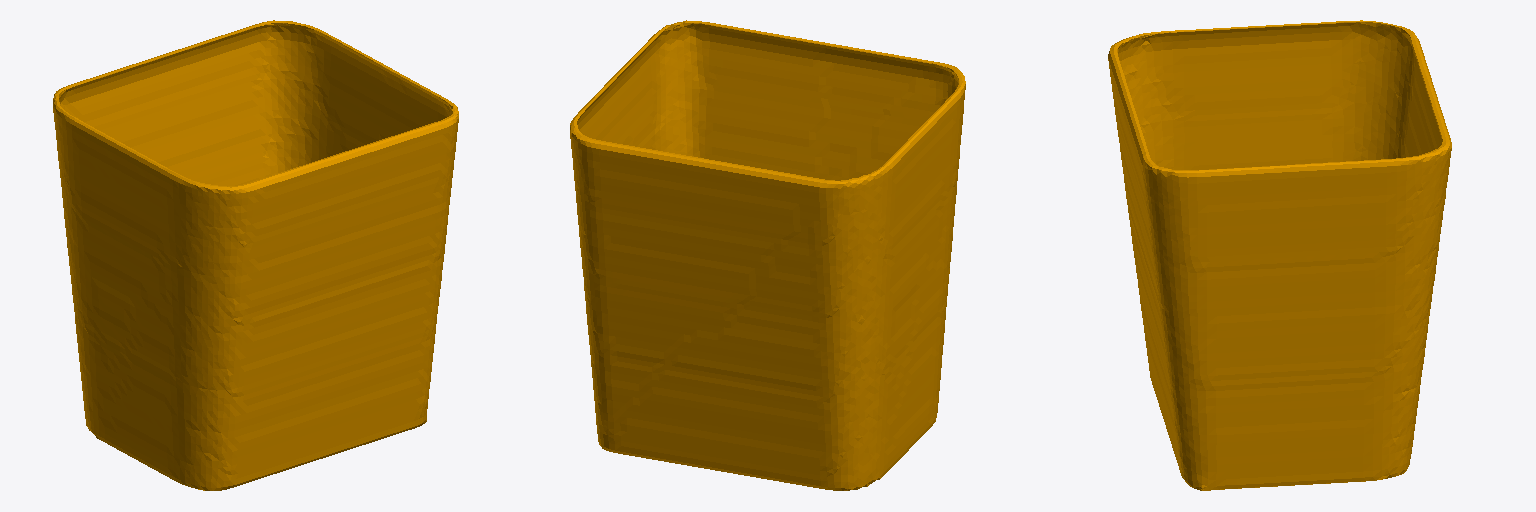
robot.urdf — 02747177_93d5f21e94ac5fb68a606c63493ddb7c_object:
<robot name="02747177_93d5f21e94ac5fb68a606c63493ddb7c_object">
	<link name="_name">
		<visual>
			<origin xyz="-1.9081682226657044 2.539538954608142 1.1426201396379796" rpy="0.0 0.0 0.0" />
			<geometry>
				<mesh filename="02747177_93d5f21e94ac5fb68a606c63493ddb7c_object.obj" />
			</geometry>
		</visual>
		<collision>
			<origin rpy="0.0 0.0 0.0" xyz="-1.9081682226657044 2.539538954608142 1.1426201396379796" />
			<geometry>
				<mesh filename="02747177_93d5f21e94ac5fb68a606c63493ddb7c_object_vhacd.obj" />
			</geometry>
		</collision>
		<inertial>
			<origin rpy="0 0 0" xyz="0 0 0" />
			<mass value="1.0" />
			<inertia ixx="0.001" ixy="0.0" ixz="0.0" iyy="0.001" iyz="0.0" izz="0.001" />
		</inertial>
	</link>
</robot>

--- Facts derived from the render (not from the file) ---
3 views of the same robot in one strip: view 1: azimuth 30°, elevation 25°; view 2: azimuth 150°, elevation 25°; view 3: azimuth 270°, elevation 25° (orthographic).
Model 02747177_93d5f21e94ac5fb68a606c63493ddb7c_object with 1 links and 0 joints (none), rooted at _name, posed every joint at zero.
Visible links, largest first — view 1: _name; view 2: _name; view 3: _name.
Link boxes in pixels (left/top/right/bottom): _name: left=53, top=20, right=458, bottom=490; _name: left=570, top=20, right=965, bottom=490; _name: left=1108, top=20, right=1451, bottom=490.
Bounding box of the posed robot: 0.3402 × 0.3226 × 0.34 m (x, y, z).
1 mesh visuals loaded from 1 distinct referenced files (1 OBJ).
